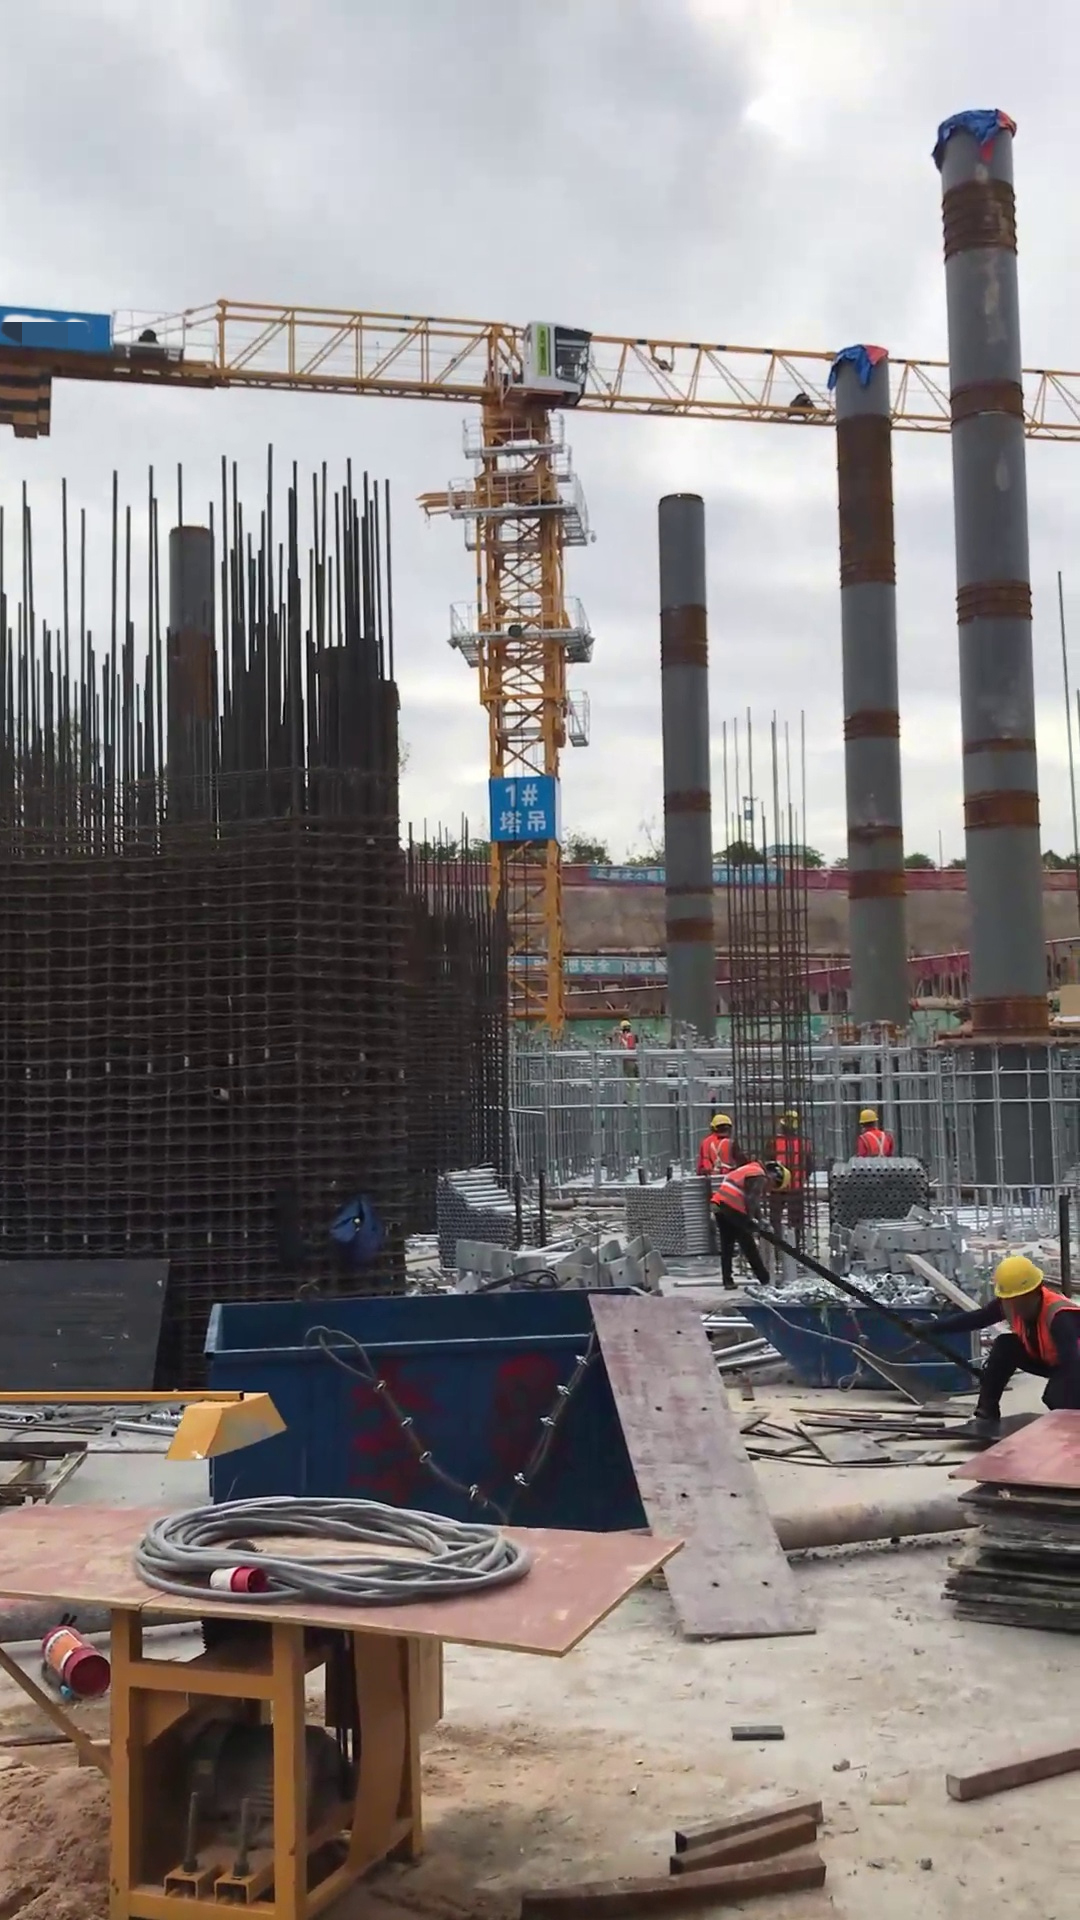board: (921, 1395, 1080, 1658)
cutter: (11, 1491, 704, 1920)
helmet: (984, 1250, 1054, 1307), (769, 1159, 795, 1195), (857, 1103, 884, 1133), (710, 1111, 736, 1135), (610, 1013, 637, 1034)
hopper: (190, 1284, 661, 1539), (737, 1284, 990, 1396)
person: (928, 1243, 1080, 1439), (703, 1157, 804, 1295), (694, 1104, 746, 1195), (842, 1095, 899, 1173), (608, 1010, 644, 1065)
scaffold: (426, 1160, 550, 1268), (626, 1169, 712, 1268), (824, 1155, 934, 1231)
slogan: (562, 953, 670, 977), (588, 862, 672, 886)
vest: (997, 1282, 1079, 1372), (709, 1159, 765, 1217), (698, 1134, 744, 1187), (848, 1125, 896, 1164), (614, 1030, 638, 1063)
